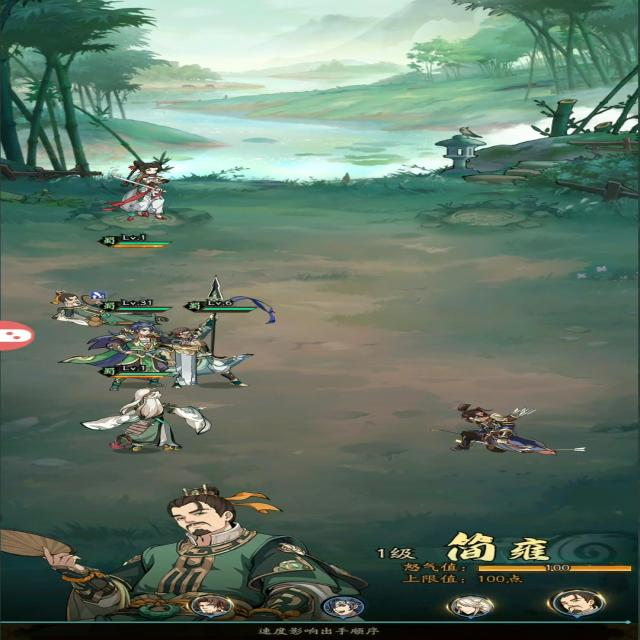hint-guide: (245, 620, 387, 640)
